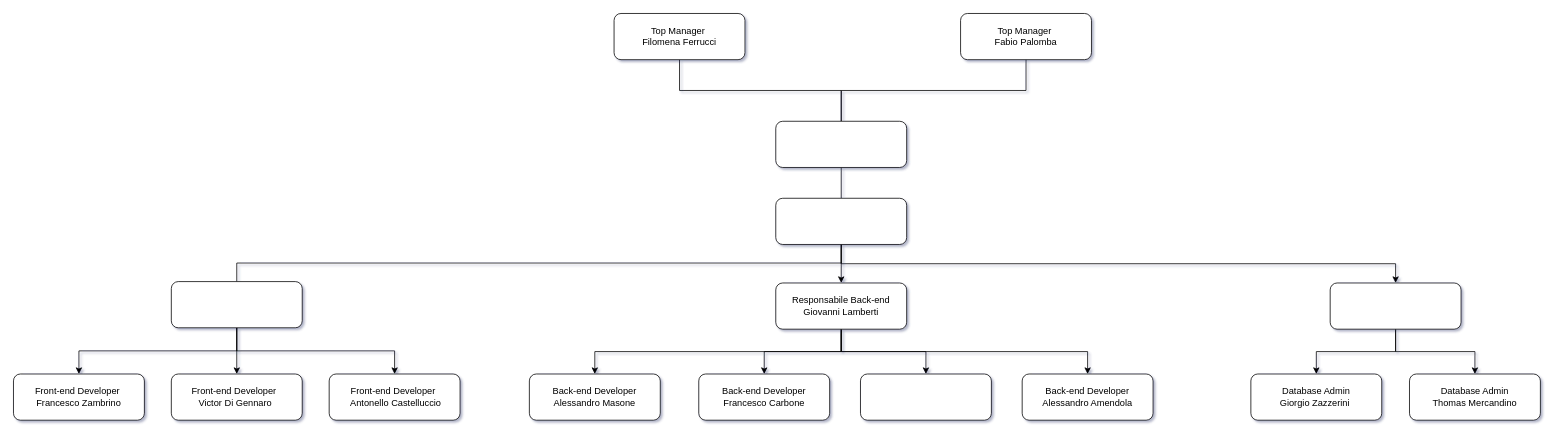
Image size: 1558x445. Some labels were removed from this diagram. The shapes that lost their labels are listed below. From the top down, each one's centre as x and y in pixels, then its label:
[841,144]: Project Manager Pasquale Sorrentino
[841,221]: Responsabile Sviluppo Giuseppe Napolitano
[236,304]: Responsabile Front-end Gianpaolo Aquilone
[1395,305]: Responsabile DB Francesco Zambrino
[925,396]: Back-end Developer Matteo Manganiello
